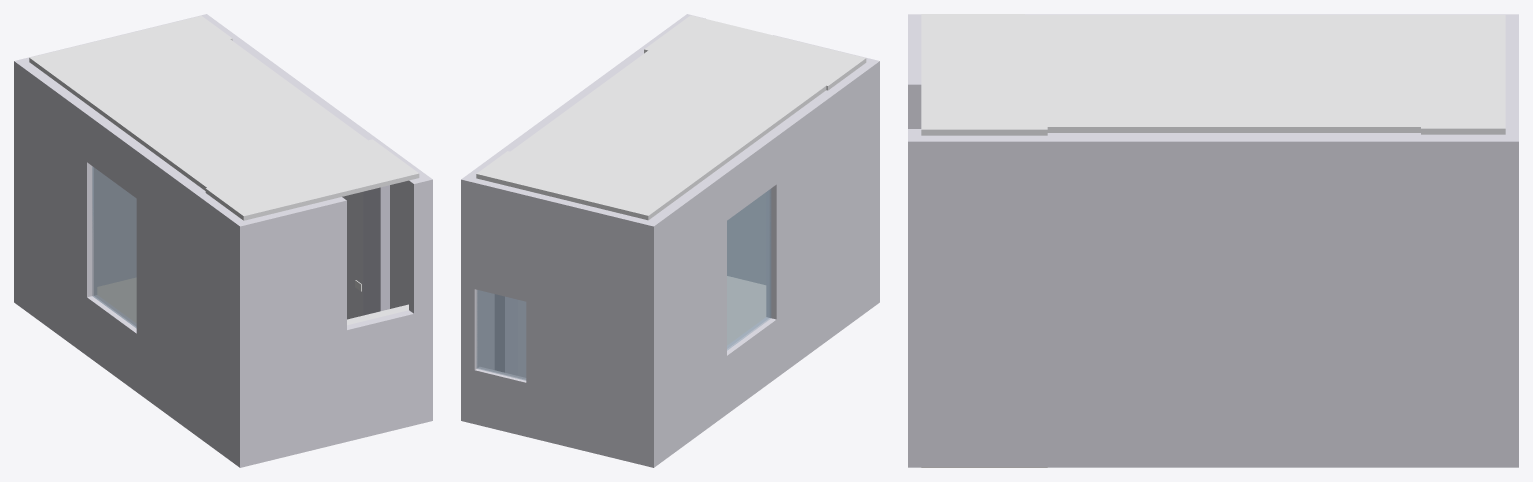
File: phong_thuc_te.fbx
The picture shows the model from 3 angles, left to right: view 1: azimuth 30°, elevation 25°; view 2: azimuth 150°, elevation 25°; view 3: azimuth 270°, elevation 25°; orthographic projection. The views are drawn at different scales.
Parts seen in each view (by area): view 1: Tuong_ben_dieu_hoa, Tran, Tuong_dau_cua, Tuong_ben_o_cua, Cua_so_ben_100x150_bau_65_vi_tri_uoc_luong, Tuong_dau_cua_so, Cot_dau_cua_ben_o_cua_11x35x6, San_nha; view 2: Tuong_ben_dieu_hoa, Tuong_dau_cua_so, Tran, Tuong_ben_o_cua, Cua_so_ben_100x150_bau_65_vi_tri_uoc_luong, Cua_so_dau_60x90_bau_60, Buc_duoi_o_cua_cao124_sau12_rong_uoc_luong, San_nha, Cot_canh_dau_cua_so_ben_phai_12x26x9, Tuong_dau_cua; view 3: Tuong_ben_o_cua, Tran, Tuong_dau_cua_so, Tuong_dau_cua, Tuong_ben_dieu_hoa.
Part boxes in pixels (x1,y1,x2,y2): Tuong_ben_dieu_hoa: (14,59,248,467); Tran: (29,15,419,220); Tuong_dau_cua: (235,176,432,467); Tuong_ben_o_cua: (197,14,432,422); Cua_so_ben_100x150_bau_65_vi_tri_uoc_luong: (92,166,136,328); Tuong_dau_cua_so: (14,15,209,304); Cot_dau_cua_ben_o_cua_11x35x6: (363,185,389,315); San_nha: (97,278,136,322); Tuong_ben_dieu_hoa: (643,59,879,467); Tuong_dau_cua_so: (461,176,658,467); Tran: (476,15,866,220); Tuong_ben_o_cua: (461,14,695,423); Cua_so_ben_100x150_bau_65_vi_tri_uoc_luong: (727,189,771,350); Cua_so_dau_60x90_bau_60: (476,290,526,380); Buc_duoi_o_cua_cao124_sau12_rong_uoc_luong: (727,192,765,284); San_nha: (727,276,765,345); Cot_canh_dau_cua_so_ben_phai_12x26x9: (495,294,517,375); Tuong_dau_cua: (683,14,879,305); Tuong_ben_o_cua: (908,133,1518,467); Tran: (921,14,1505,135); Tuong_dau_cua_so: (1505,14,1518,467); Tuong_dau_cua: (908,14,921,467); Tuong_ben_dieu_hoa: (908,14,1518,21).
Bounding box in the file's own units: 224 × 278 × 455.
